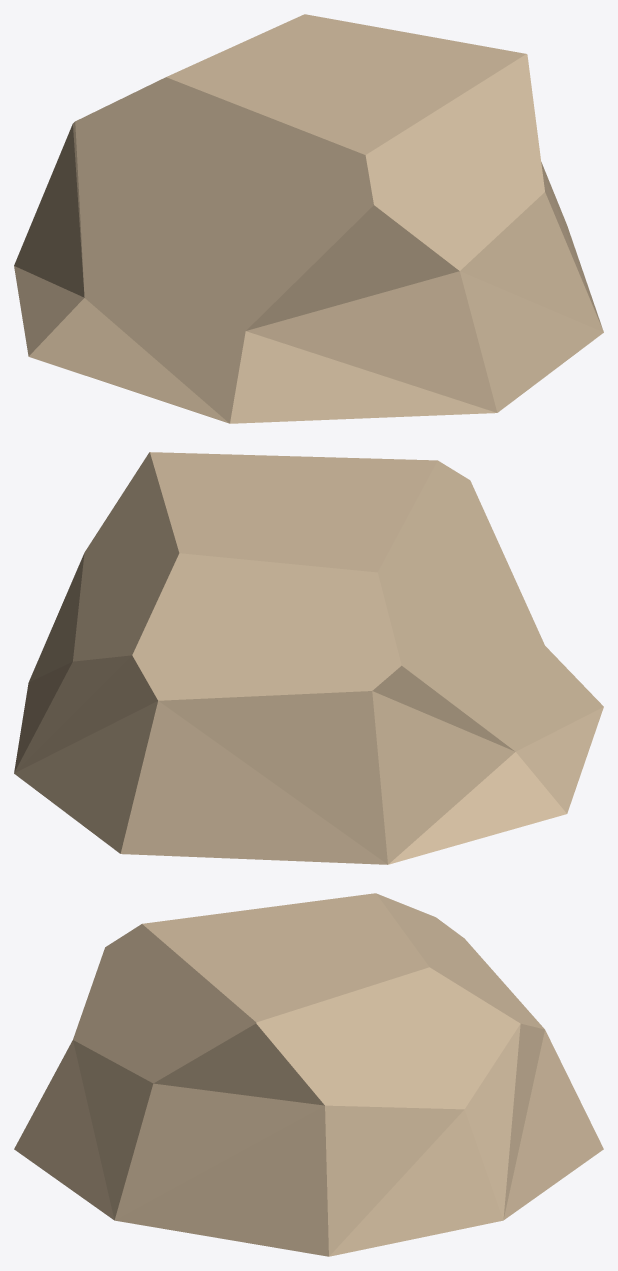
Rendered from SM_Env_Rock_016.fbx.
3 renders of one model, top to bottom at view 1: azimuth 30°, elevation 25°; view 2: azimuth 150°, elevation 25°; view 3: azimuth 270°, elevation 25°, orthographic. The views are drawn at different scales.
Visible parts, largest first — view 1: SM_Env_Rock_016; view 2: SM_Env_Rock_016; view 3: SM_Env_Rock_016.
Boxes of the visible parts, box(x1,y1,x2,y2) form: SM_Env_Rock_016: box(14, 14, 603, 423); SM_Env_Rock_016: box(14, 452, 603, 864); SM_Env_Rock_016: box(14, 893, 603, 1256).
Bounding box in the file's own units: 0.00573 × 0.00224 × 0.00604.
1 material, 1 textured.
